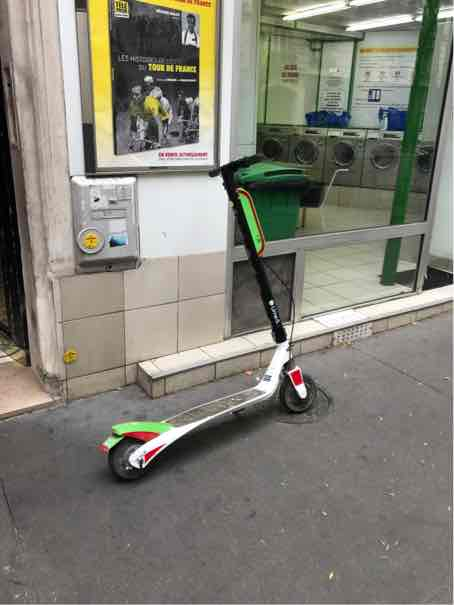scooter: (102, 154, 322, 489)
